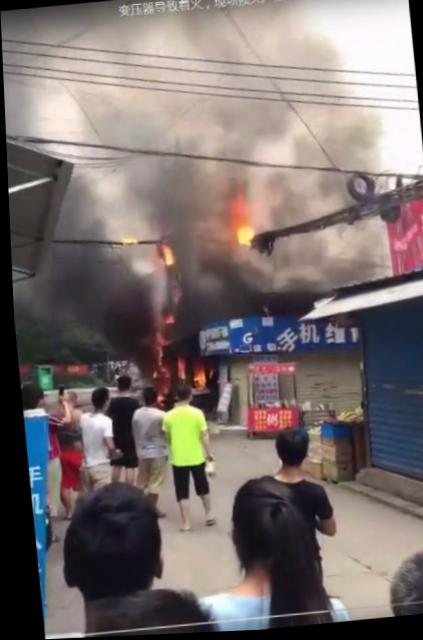fire: (225, 198, 249, 246), (184, 358, 203, 390), (156, 242, 172, 269), (171, 356, 183, 382)
